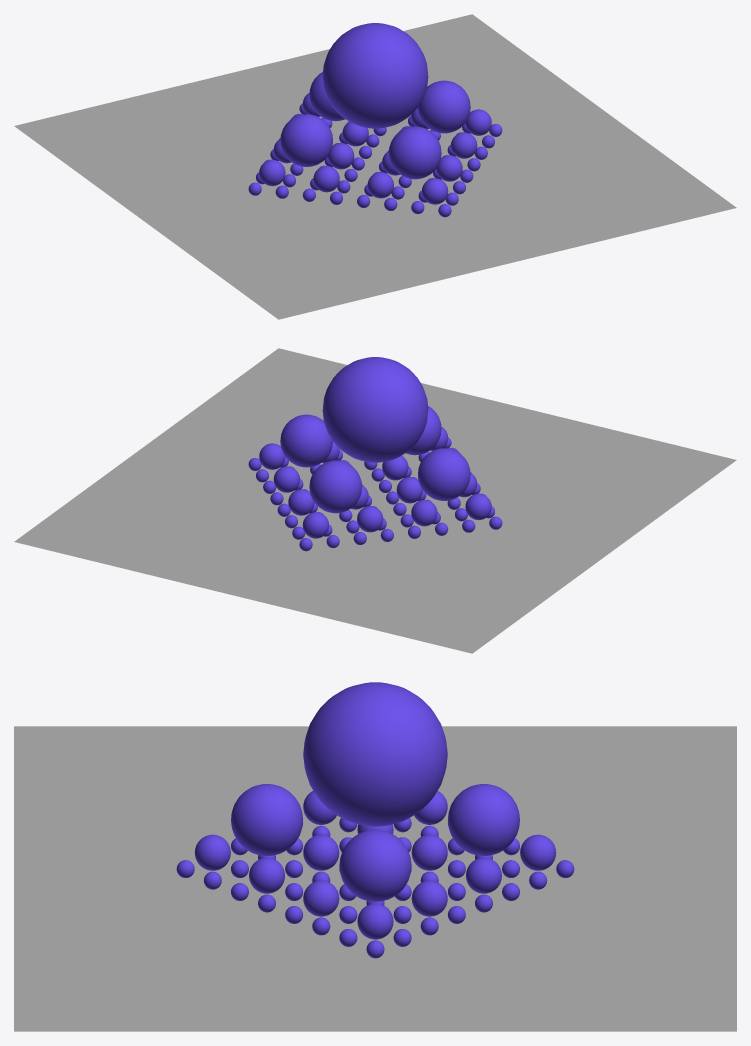
Rendered from gltf_test_node_animation.gltf.
3 views of the same model, one above another, from view 1: azimuth 30°, elevation 25°; view 2: azimuth 150°, elevation 25°; view 3: azimuth 270°, elevation 25° (orthographic). The views are drawn at different scales.
Parts seen in each view (by area): view 1: Plane, TopLevelSphere, Sphere_L2_2, Sphere_L2_4, Sphere_L2_3, Sphere_L2_1; view 2: Plane, TopLevelSphere, Sphere_L2_1, Sphere_L2_4, Sphere_L2_3, Sphere_L2_2; view 3: Plane, TopLevelSphere, Sphere_L2_1, Sphere_L2_2, Sphere_L2_3, Sphere_L2_4.
Boxes of the visible parts, x1,y1,x2,y2 form: Plane: [14, 14, 736, 319]; TopLevelSphere: [322, 23, 428, 128]; Sphere_L2_2: [367, 126, 462, 204]; Sphere_L2_4: [259, 114, 354, 192]; Sphere_L2_3: [399, 80, 491, 158]; Sphere_L2_1: [291, 72, 368, 146]; Plane: [14, 348, 736, 653]; TopLevelSphere: [322, 357, 428, 462]; Sphere_L2_1: [288, 460, 383, 538]; Sphere_L2_4: [396, 448, 491, 526]; Sphere_L2_3: [259, 414, 351, 492]; Sphere_L2_2: [382, 406, 459, 480]; Plane: [14, 726, 736, 1031]; TopLevelSphere: [303, 682, 447, 826]; Sphere_L2_1: [411, 784, 556, 893]; Sphere_L2_2: [194, 784, 339, 893]; Sphere_L2_3: [303, 829, 447, 939]; Sphere_L2_4: [303, 790, 447, 833].
Size of the model in its own units: 5 by 1.45 by 5.
